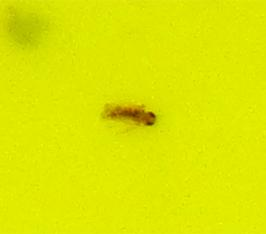Hemiptera: (100, 100, 166, 134)
